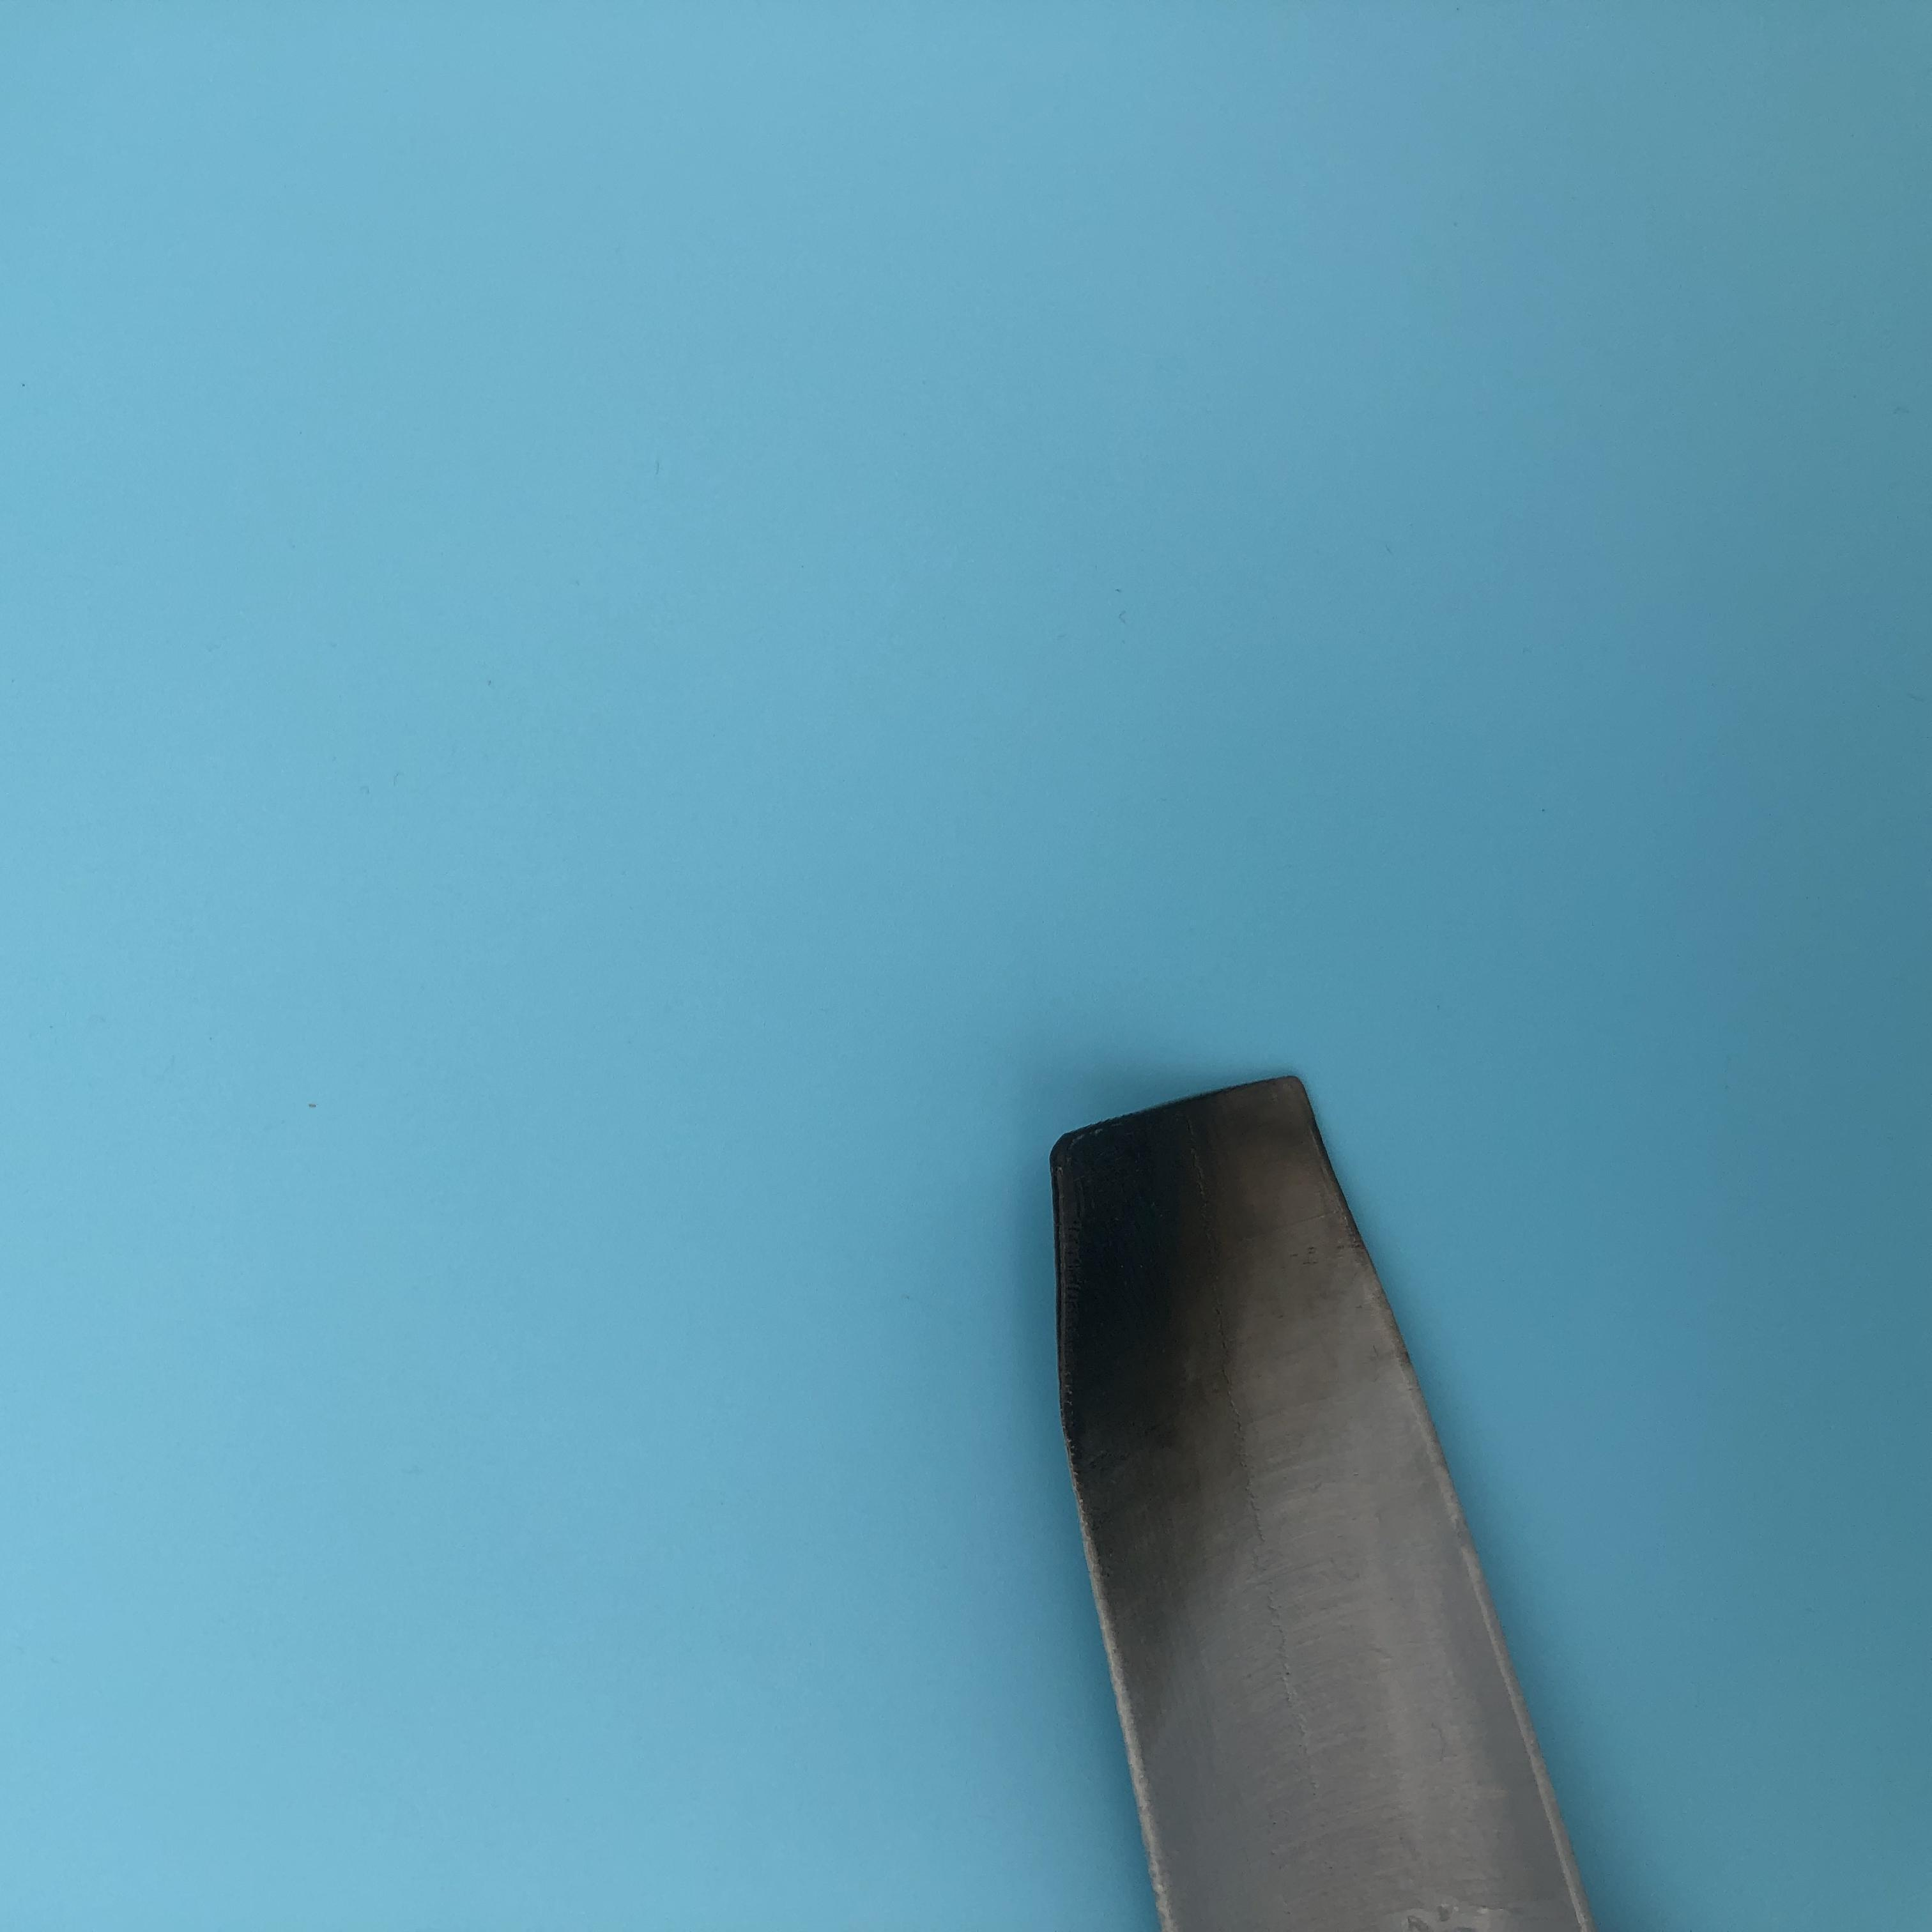ablation: (1053, 1104, 1352, 1539)
